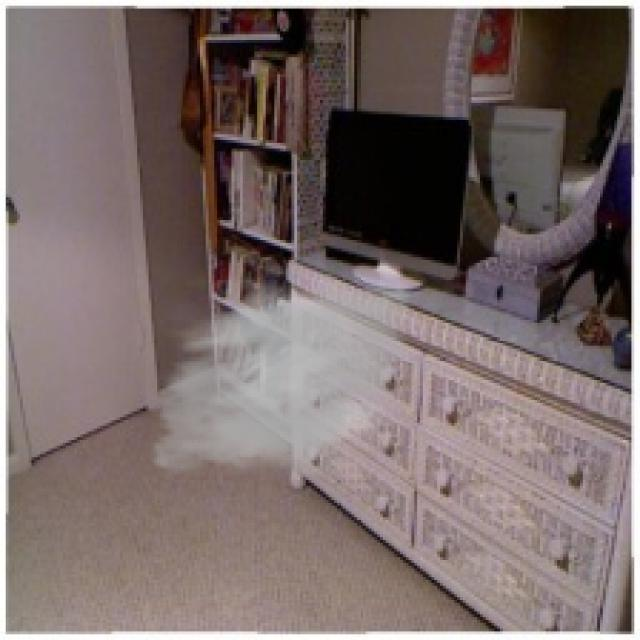Smoke: (140, 266, 423, 494)
